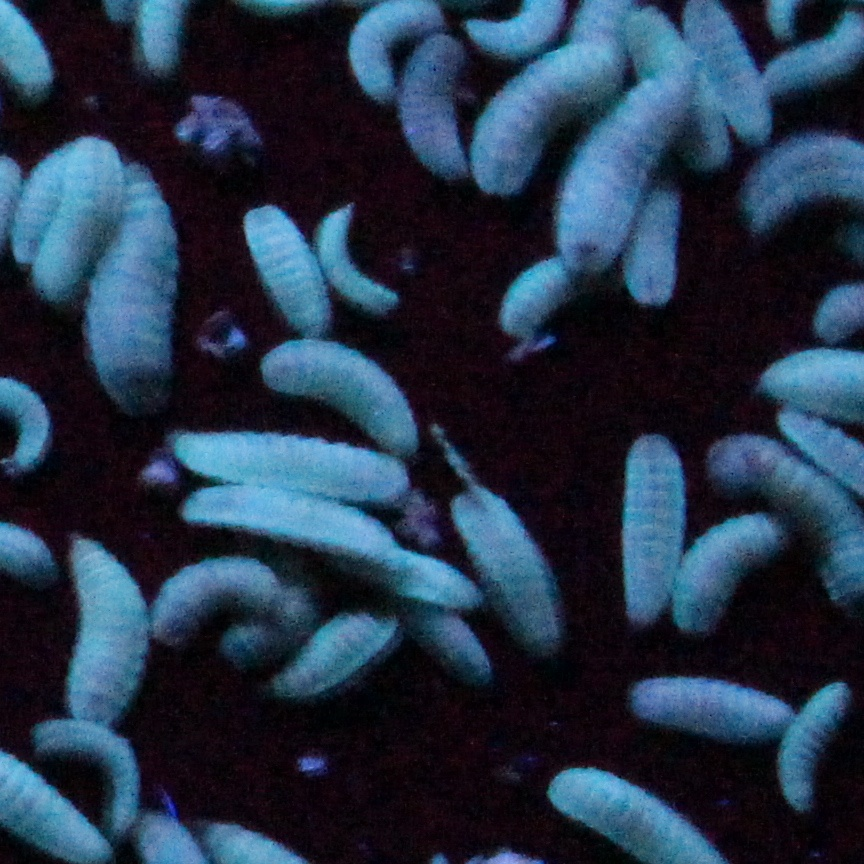larve: (84, 149, 188, 414), (561, 69, 692, 272), (468, 40, 617, 203), (450, 463, 575, 654), (248, 329, 426, 458), (177, 478, 413, 567), (619, 5, 742, 172), (164, 425, 397, 502), (64, 532, 144, 729), (262, 587, 406, 692), (33, 131, 121, 298), (672, 512, 786, 636), (384, 32, 477, 180), (31, 711, 144, 832), (301, 189, 399, 316), (615, 434, 681, 614), (622, 667, 793, 736), (148, 551, 279, 640), (768, 680, 855, 812), (244, 203, 333, 332), (617, 172, 693, 311), (217, 574, 324, 671), (486, 247, 593, 340), (364, 538, 481, 623), (401, 600, 501, 687), (19, 145, 73, 252)
